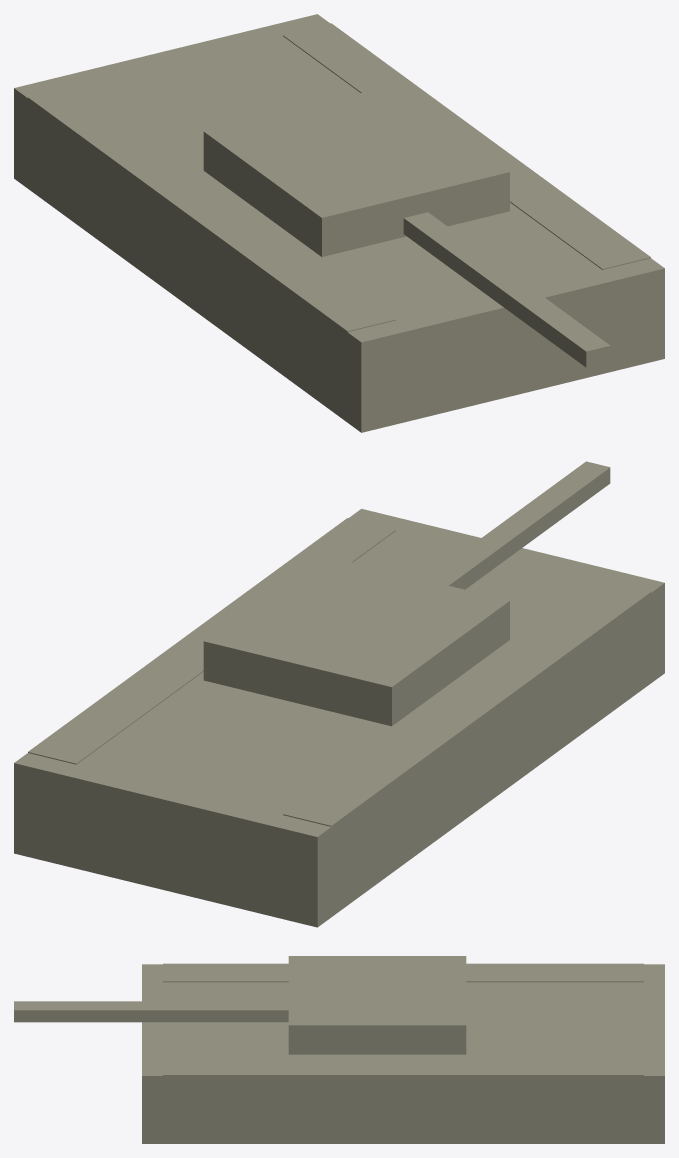
Rendered from t72_ddr.glb.
3 renders of one model, top to bottom at view 1: azimuth 30°, elevation 25°; view 2: azimuth 150°, elevation 25°; view 3: azimuth 270°, elevation 25°, orthographic. The views are drawn at different scales.
Parts seen in each view (by area): view 1: Hull, Turret, Track_L, Track_R, Gun; view 2: Hull, Turret, Track_L, Track_R, Gun; view 3: Hull, Track_R, Turret, Track_L, Gun.
Boxes of the visible parts, bbox=[...] form: Hull: bbox=[14, 14, 664, 432]; Turret: bbox=[203, 85, 509, 256]; Track_L: bbox=[28, 85, 395, 374]; Track_R: bbox=[283, 23, 650, 269]; Gun: bbox=[403, 212, 610, 367]; Hull: bbox=[14, 508, 664, 927]; Turret: bbox=[203, 555, 509, 726]; Track_L: bbox=[283, 580, 650, 869]; Track_R: bbox=[28, 518, 395, 764]; Gun: bbox=[424, 461, 610, 589]; Hull: bbox=[142, 964, 664, 1143]; Track_R: bbox=[163, 1057, 643, 1108]; Turret: bbox=[288, 956, 466, 1054]; Track_L: bbox=[163, 963, 643, 982]; Gun: bbox=[14, 1001, 288, 1022].
Size of the model in its own units: 3.46 by 1.41 by 8.54.
